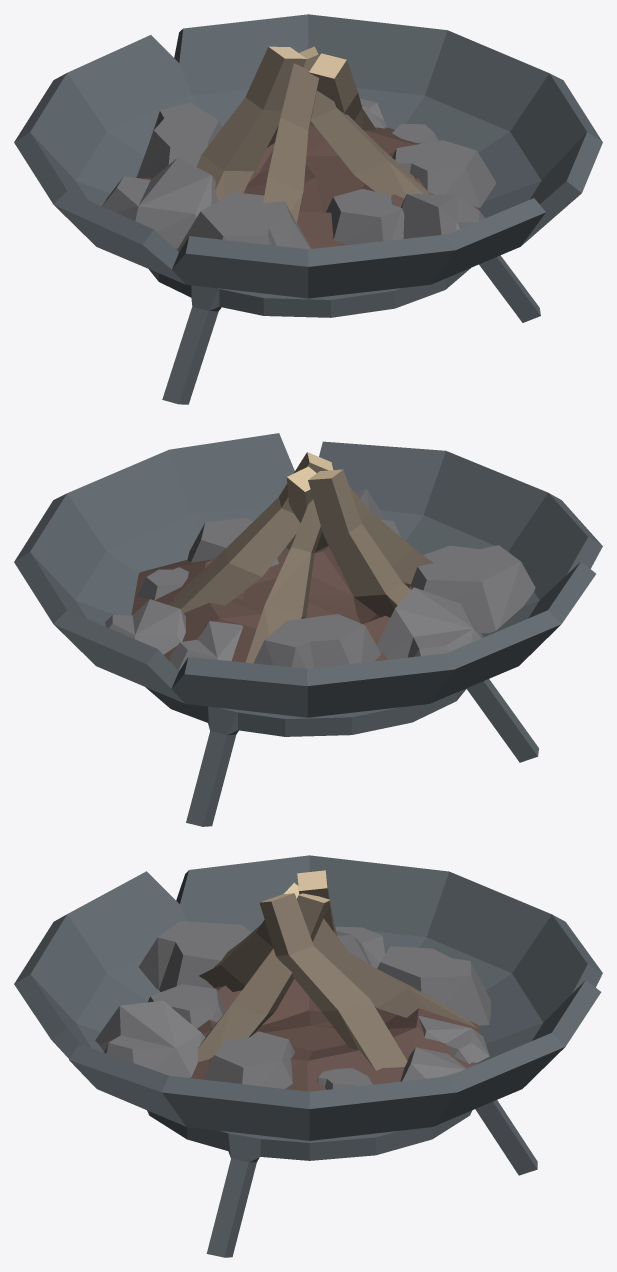
File: WF_LP_HT_Props_Fire.fbx
3 views of the same model, one above another, from view 1: azimuth 30°, elevation 25°; view 2: azimuth 150°, elevation 25°; view 3: azimuth 270°, elevation 25° (orthographic).
Parts seen in each view (by area): view 1: WF_LP_HT_Props_Fire; view 2: WF_LP_HT_Props_Fire; view 3: WF_LP_HT_Props_Fire.
Boxes of the visible parts, x1=… form: WF_LP_HT_Props_Fire: x1=14, y1=14, x2=602, y2=404; WF_LP_HT_Props_Fire: x1=14, y1=433, x2=602, y2=826; WF_LP_HT_Props_Fire: x1=14, y1=855, x2=602, y2=1257.
Bounding box in the file's own units: 0.9462 × 0.5045 × 0.9425.
